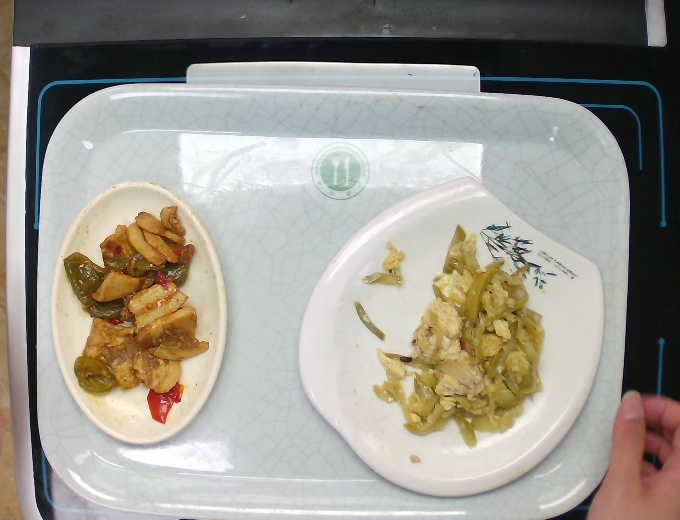JYsf-Mian_Pan: (296, 173, 607, 500)
JYsf-Tuo_Yuan_Wan: (48, 176, 232, 448)
